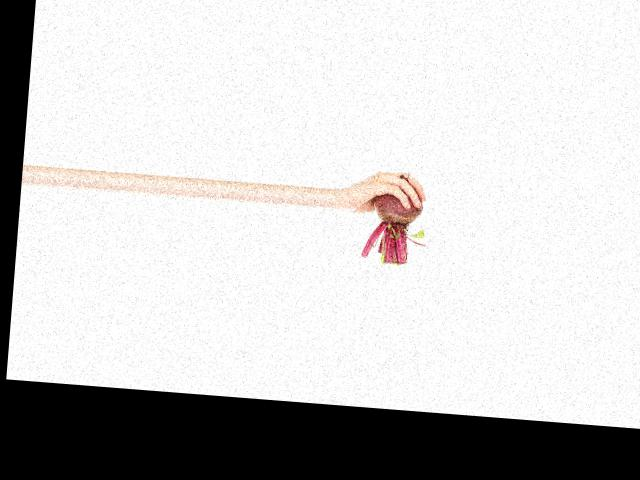beet: (360, 171, 432, 266)
